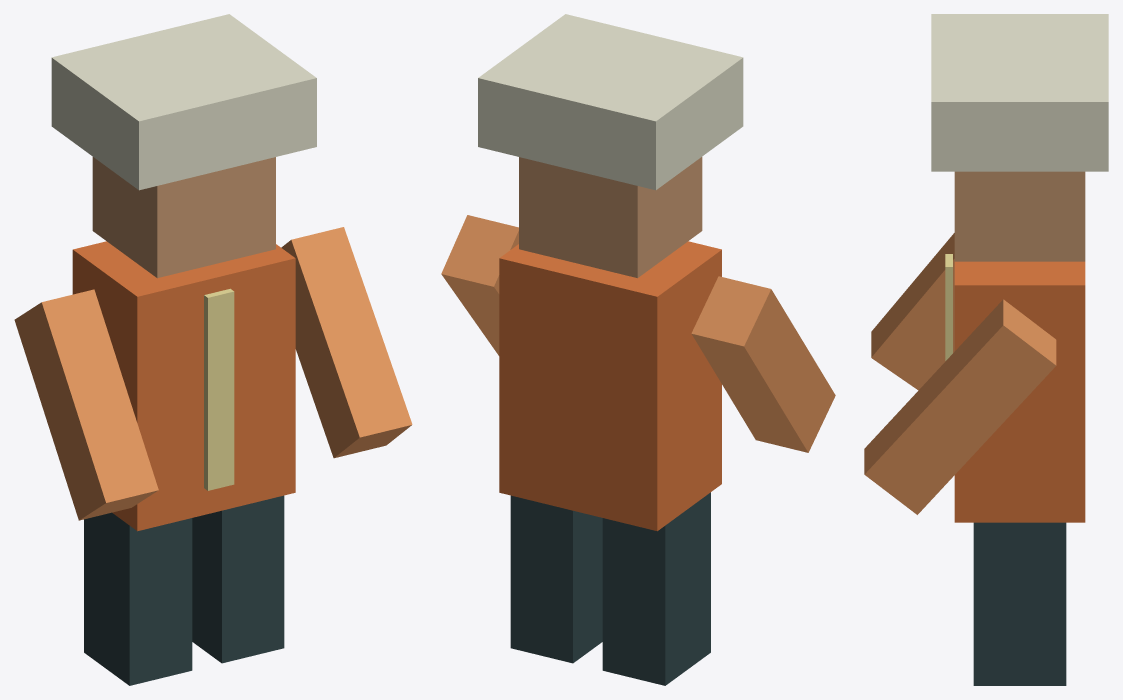
Rendered from worker-whitehat.glb.
The picture shows the model from 3 angles, left to right: view 1: azimuth 30°, elevation 25°; view 2: azimuth 150°, elevation 25°; view 3: azimuth 270°, elevation 25°; orthographic projection.
Visible parts, largest first — view 1: worker, worker_354b4f, armL, armR; view 2: worker, worker_354b4f, armL, armR; view 3: worker, armR, worker_354b4f, armL.
Part boxes in pixels (x1,y1,x2,y2): worker: [51, 14, 316, 531]; worker_354b4f: [84, 495, 284, 685]; armL: [14, 289, 158, 520]; armR: [281, 227, 412, 458]; worker: [478, 14, 743, 531]; worker_354b4f: [510, 492, 710, 685]; armL: [691, 276, 835, 452]; armR: [441, 215, 518, 355]; worker: [931, 14, 1108, 522]; armR: [864, 299, 1056, 514]; worker_354b4f: [973, 522, 1066, 685]; armL: [871, 233, 954, 390].
Size of the model in its own units: 0.46 by 0.845 by 0.3169.
